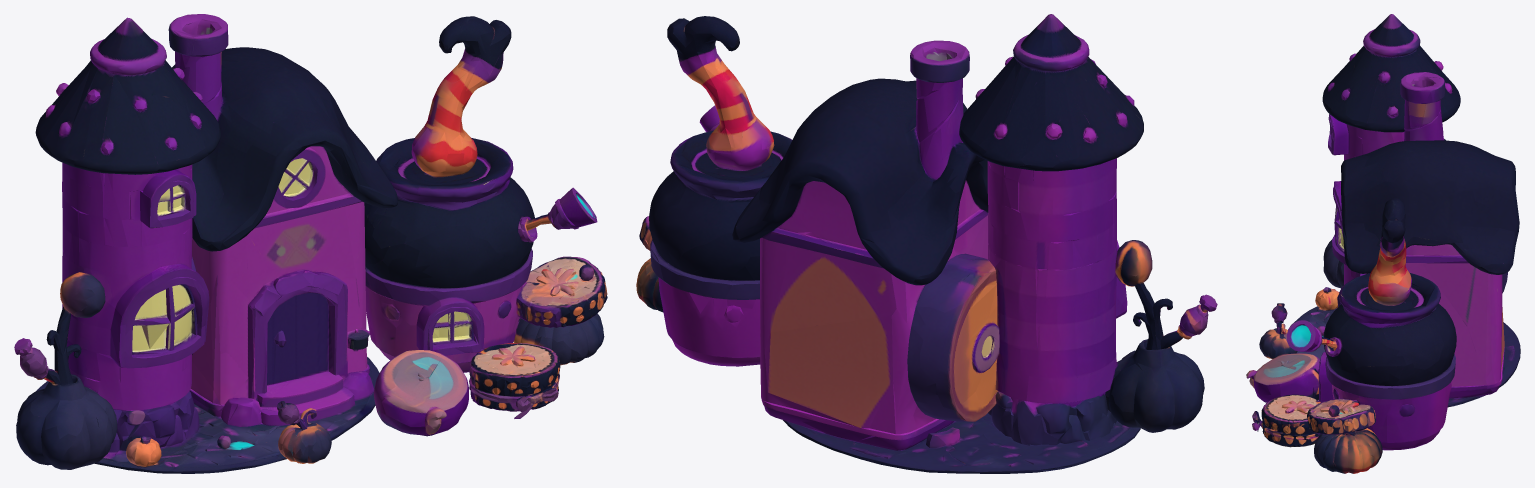
File: hw-factory.glb
The picture shows the model from 3 angles, left to right: view 1: azimuth 30°, elevation 25°; view 2: azimuth 150°, elevation 25°; view 3: azimuth 270°, elevation 25°; orthographic projection. The views are drawn at different scales.
Size of the model in its own units: 1.9 by 1.29 by 1.05.
1 material, 1 textured.
